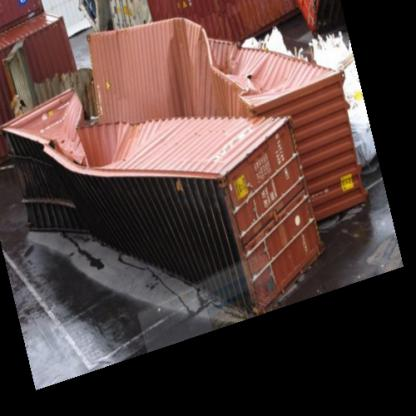Damage: (128, 17, 334, 120), (2, 93, 132, 223)
